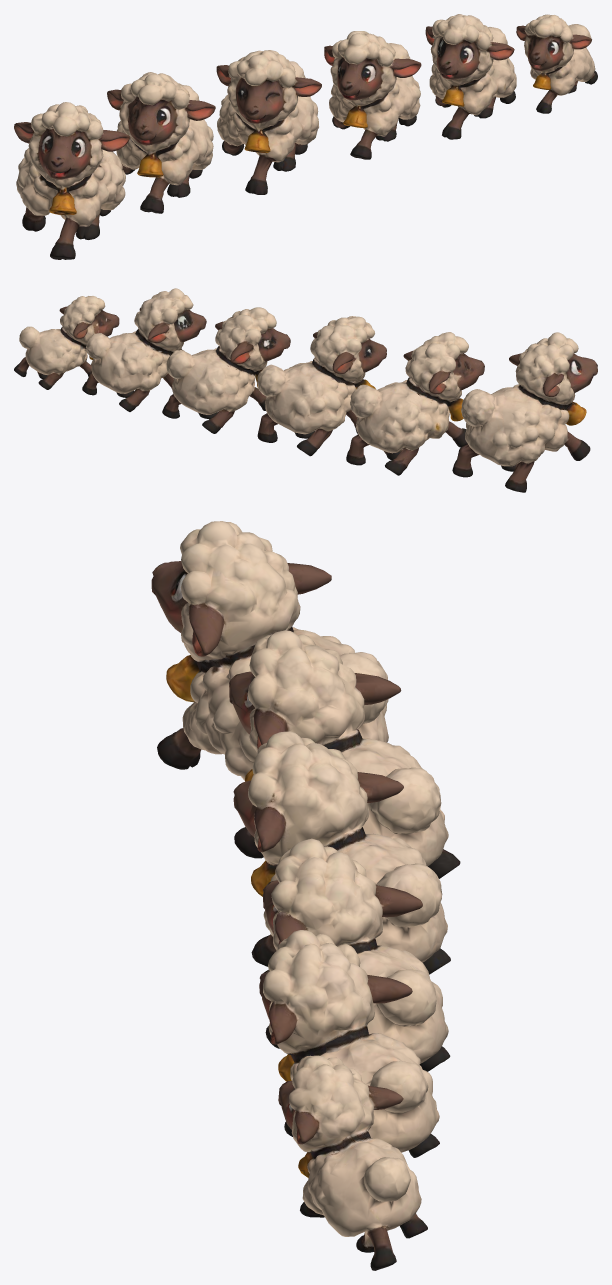
Rendered from jump_sheep.glb.
3 renders of one model, top to bottom at view 1: azimuth 30°, elevation 25°; view 2: azimuth 150°, elevation 25°; view 3: azimuth 270°, elevation 25°, orthographic. The views are drawn at different scales.
Visible parts, largest first — view 1: tripo_node_63f36a5d-984b-4463-9689-e1bd214be1c6; view 2: tripo_node_63f36a5d-984b-4463-9689-e1bd214be1c6; view 3: tripo_node_63f36a5d-984b-4463-9689-e1bd214be1c6.
Boxes of the visible parts, x1,y1,x2,y2 form: tripo_node_63f36a5d-984b-4463-9689-e1bd214be1c6: (14, 14, 597, 259); tripo_node_63f36a5d-984b-4463-9689-e1bd214be1c6: (14, 288, 597, 492); tripo_node_63f36a5d-984b-4463-9689-e1bd214be1c6: (151, 521, 460, 1270).
Bounding box in the file's own units: 0.9996 × 0.2436 × 0.2528.
Materials: 1 (1 with a texture image).
